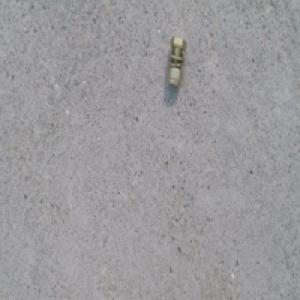BoltNutSet: (163, 37, 187, 86)
